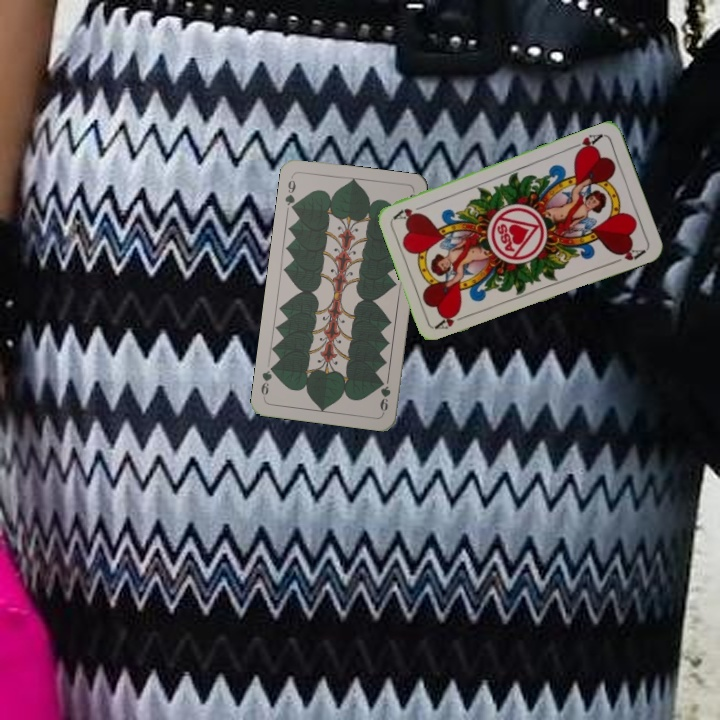G9: (281, 172, 299, 214), (376, 382, 393, 415)
HA: (567, 130, 605, 156), (432, 307, 471, 332)
